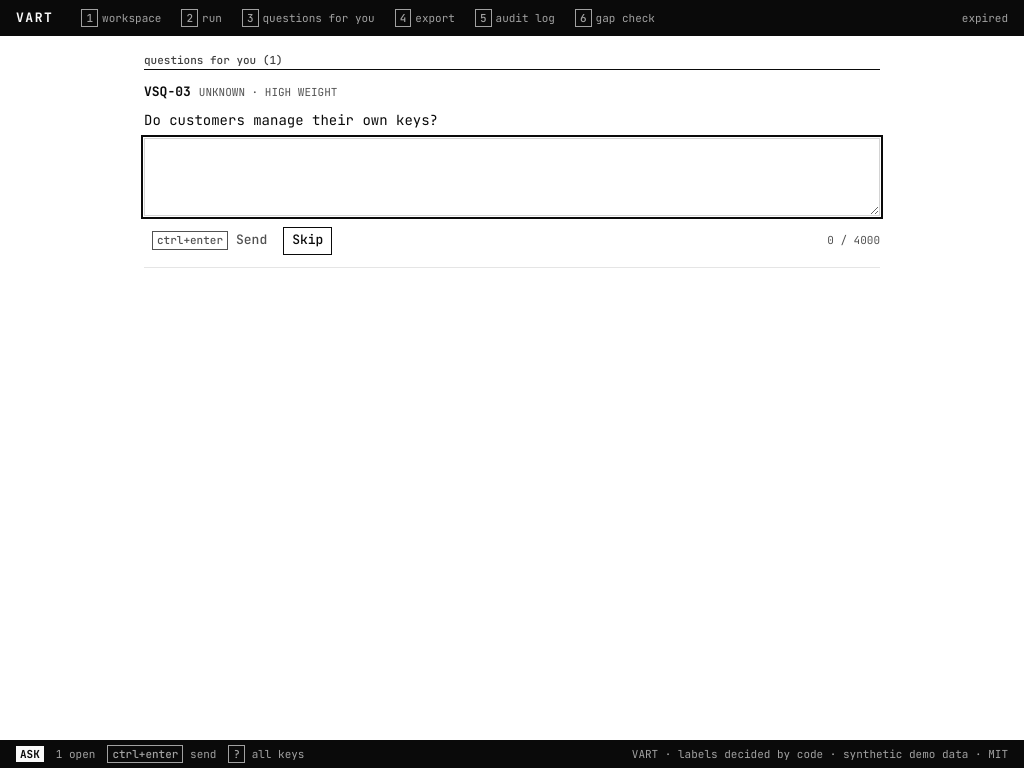
Scenario: Questions › on 409 shows the reason and reloads the queue; on 429 says when to retry; the error clears on the next try
This screenshot has width=1024, height=768.
Type "Yes" into the text box named "your answer to VSQ-03" at (512,177), box [144, 138, 880, 216]
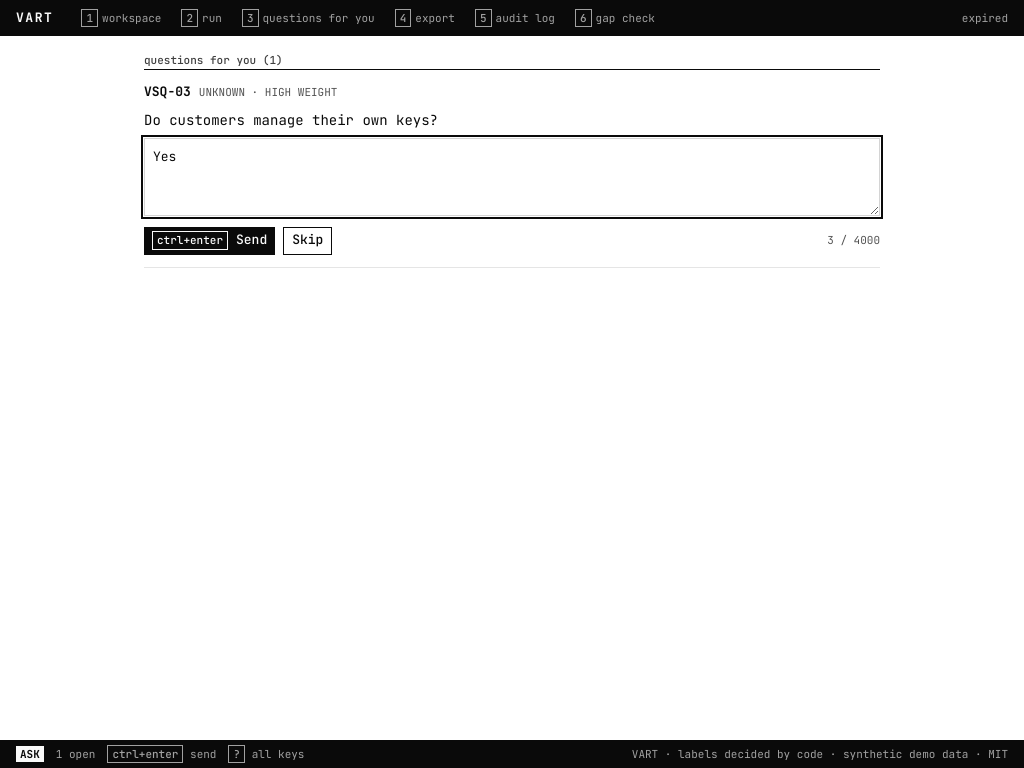
Click the button "ctrl+enter Send" at (210,240), box [144, 226, 275, 254]
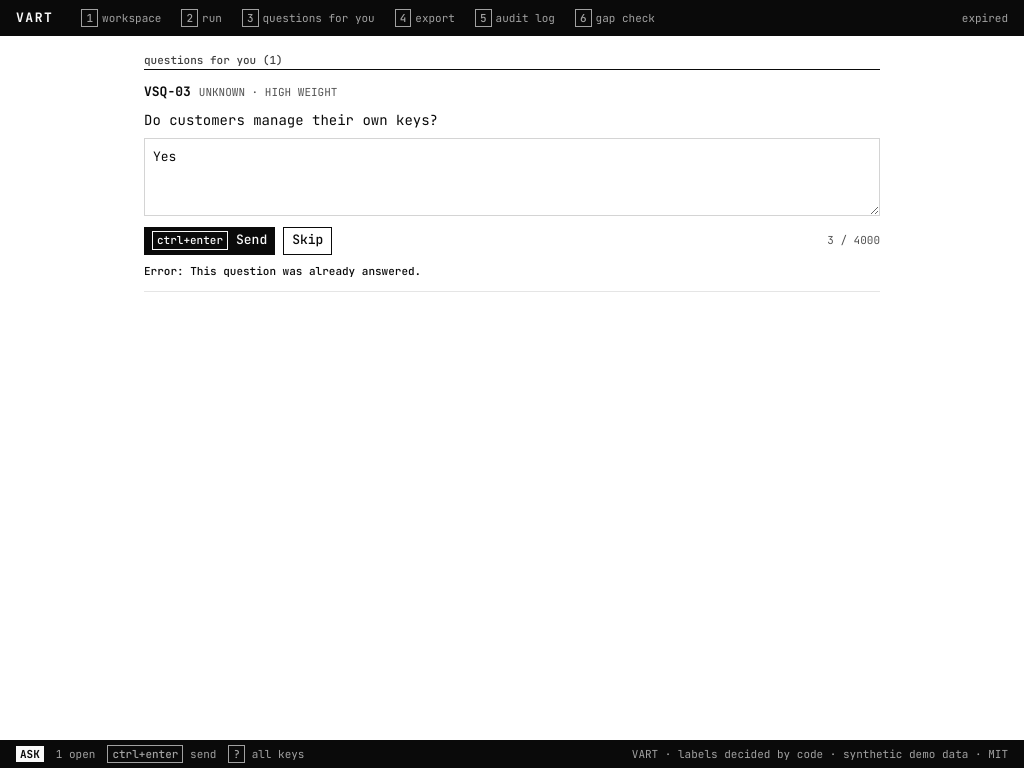
Now the text "Error: This question was already answered." is shown, box [144, 264, 421, 278]
Click the button "ctrl+enter Send" at (210,240), box [144, 226, 275, 254]
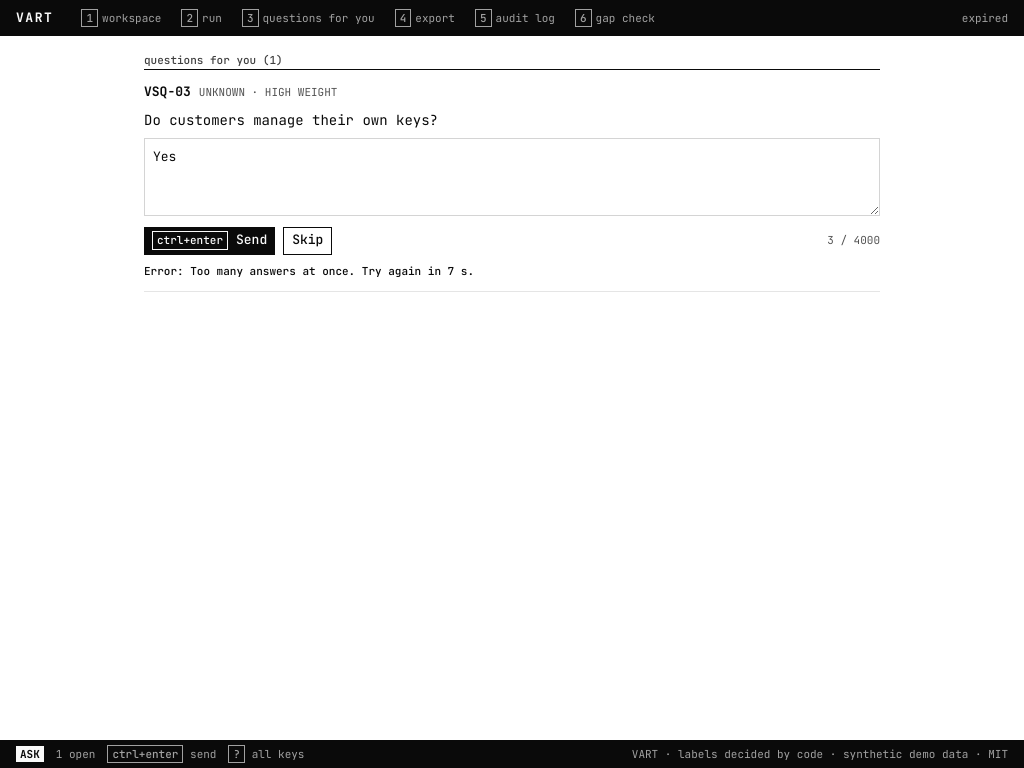
Now the text "Error: Too many answers at once. Try again in 7 s." is shown, box [144, 264, 474, 278]
Now the text "already answered" is gone
